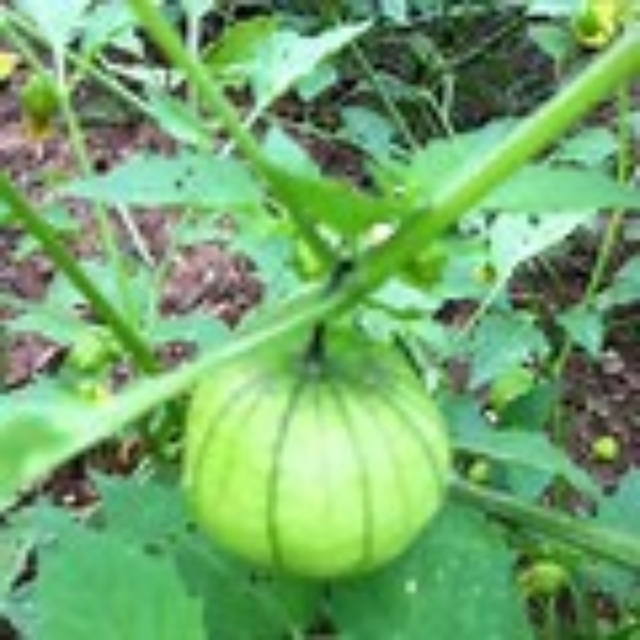tomato: (160, 299, 462, 575)
